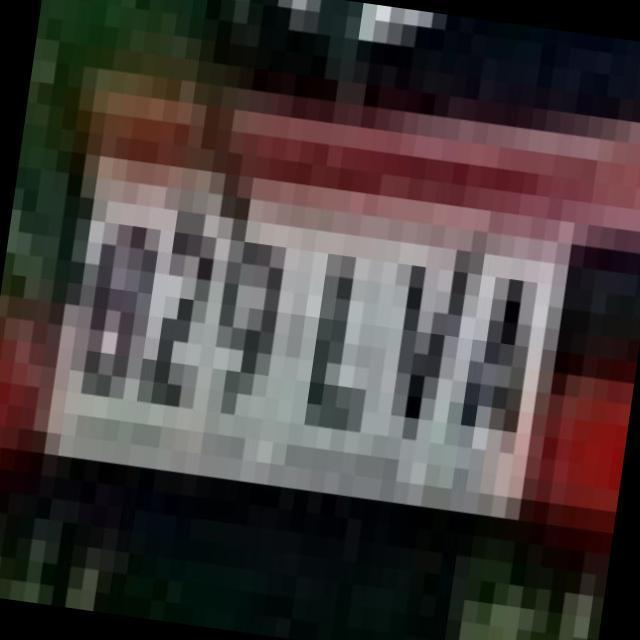License Plate: (29, 137, 578, 548)
